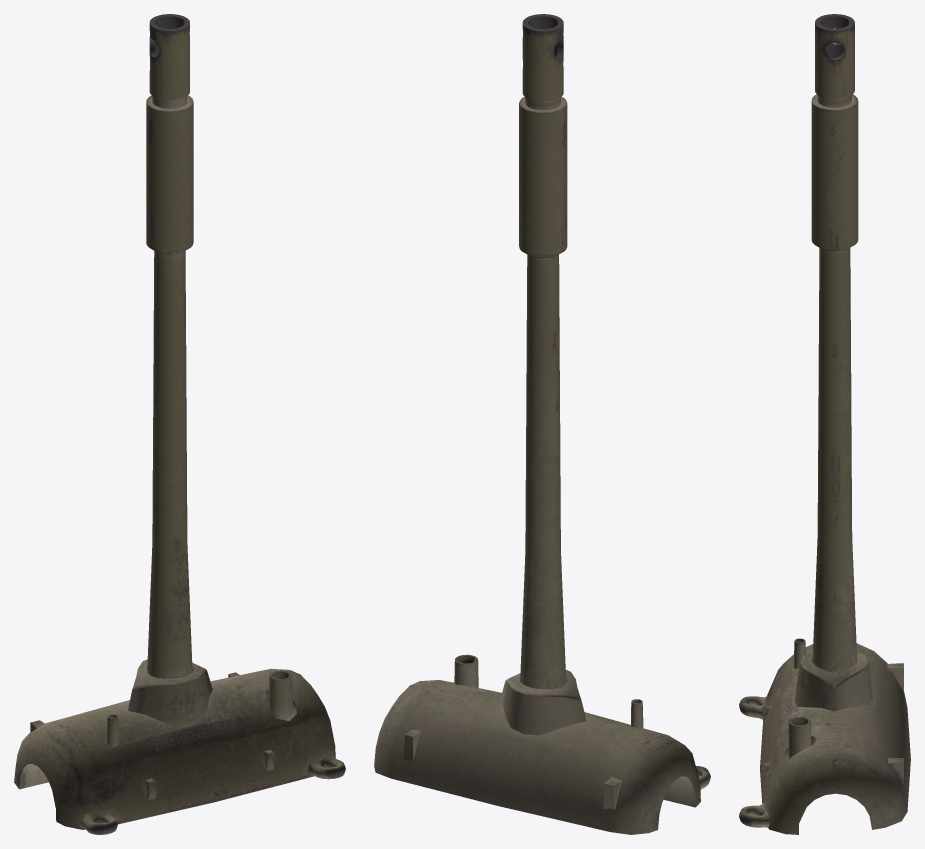
Rendered from Gun_04.glb.
3 renders of one model, left to right at view 1: azimuth 30°, elevation 25°; view 2: azimuth 150°, elevation 25°; view 3: azimuth 270°, elevation 25°, orthographic. The views are drawn at different scales.
Parts seen in each view (by area): view 1: set_0_group_0; view 2: set_0_group_0; view 3: set_0_group_0.
Part boxes in pixels (x1=…): set_0_group_0: x1=14, y1=14, x2=345, y2=834; set_0_group_0: x1=374, y1=14, x2=710, y2=834; set_0_group_0: x1=739, y1=14, x2=910, y2=834.
Bounding box in the file's own units: 1.39 × 3.64 × 0.7627.
Materials: 1 (1 with a texture image).
